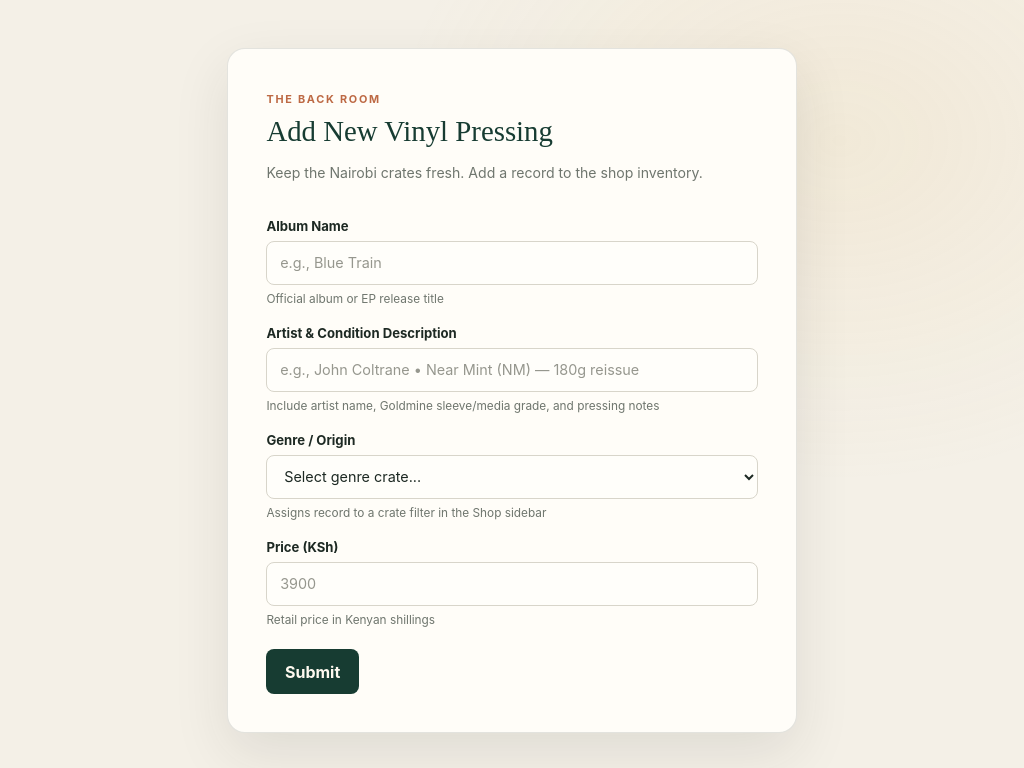
Test: shows validation error messages when submitting an empty form
Click the button "Submit" at (313, 672), box [266,649,359,694]
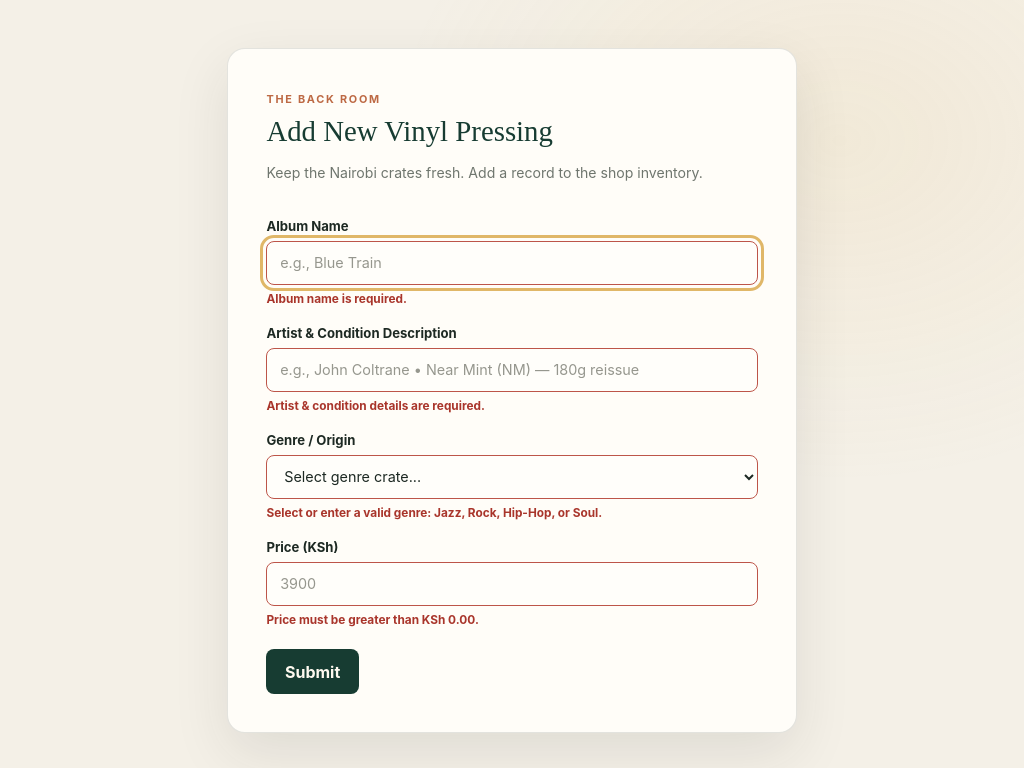
Check: the text "Album name is required." is shown, box [266,292,407,306]
Check: the text "Select or enter a valid genre: Jazz, Rock, Hip-Hop, or Soul." is shown, box [266,506,602,520]
Check: the text "Price must be greater than KSh 0.00." is shown, box [266,613,479,627]
